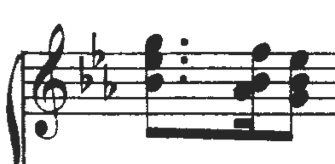flat: (72, 52, 98, 100), (98, 60, 121, 103), (87, 29, 111, 70)
treble_clef: (26, 15, 72, 148)
